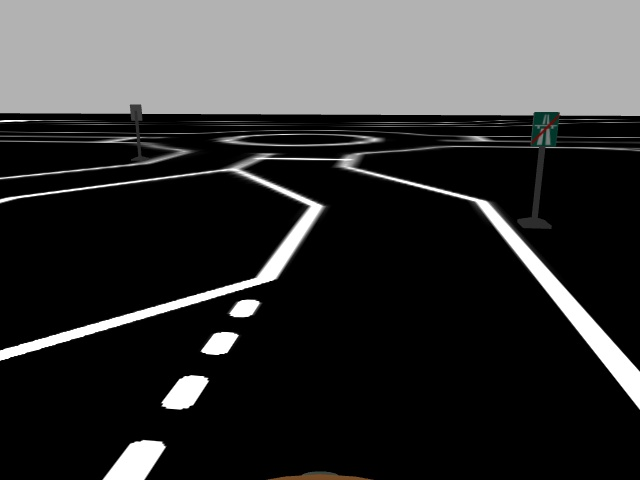leave_highway: (531, 110, 560, 147)
